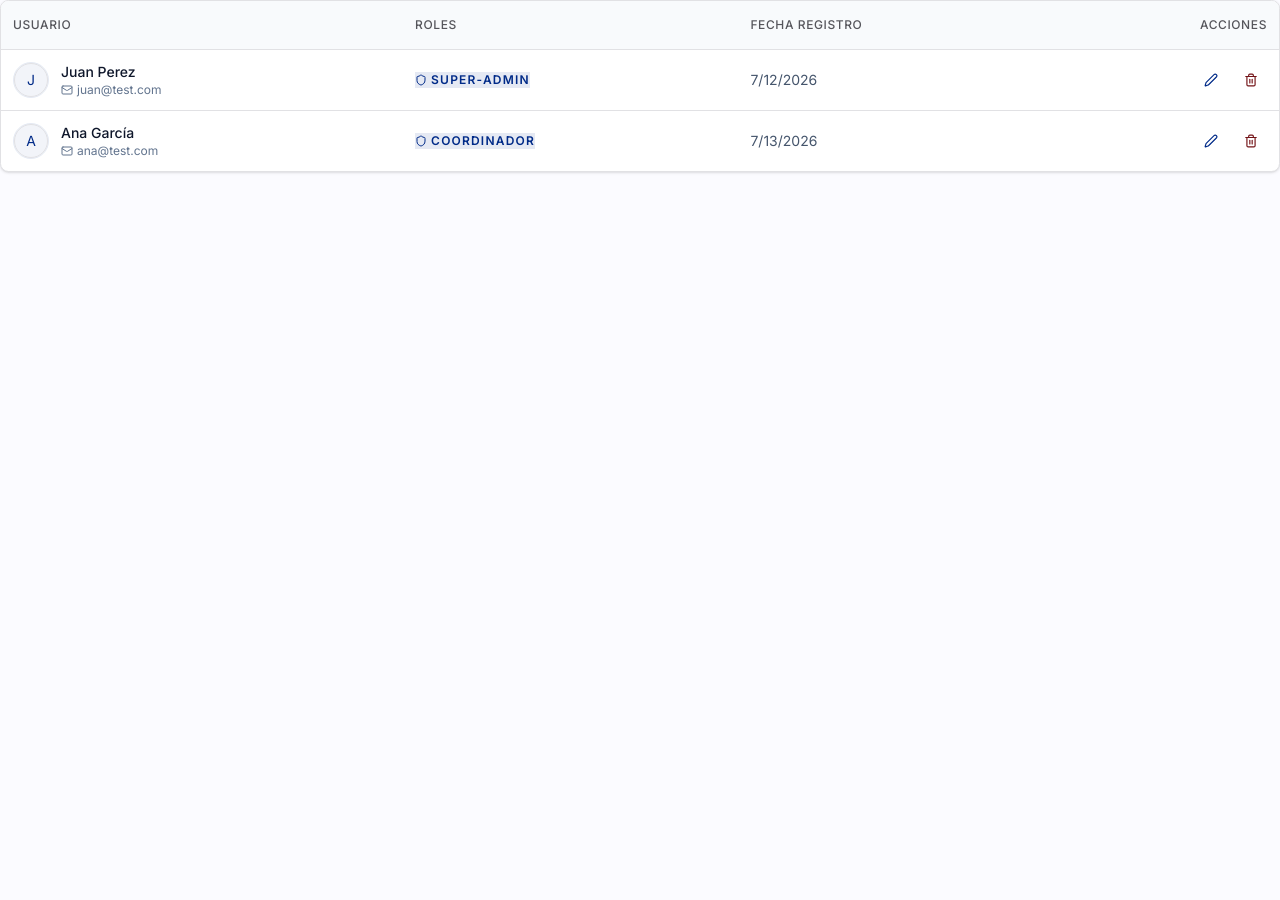
Test: UsersTable › el modal de eliminación se cierra al hacer click en Cancelar
Expected: the text "Juan Perez" is shown, [61, 62, 136, 80]
What coordinates should you click on to do the following:
click the 2nd button
I would click on:
 (1251, 80)
Its box is [1235, 64, 1267, 96].
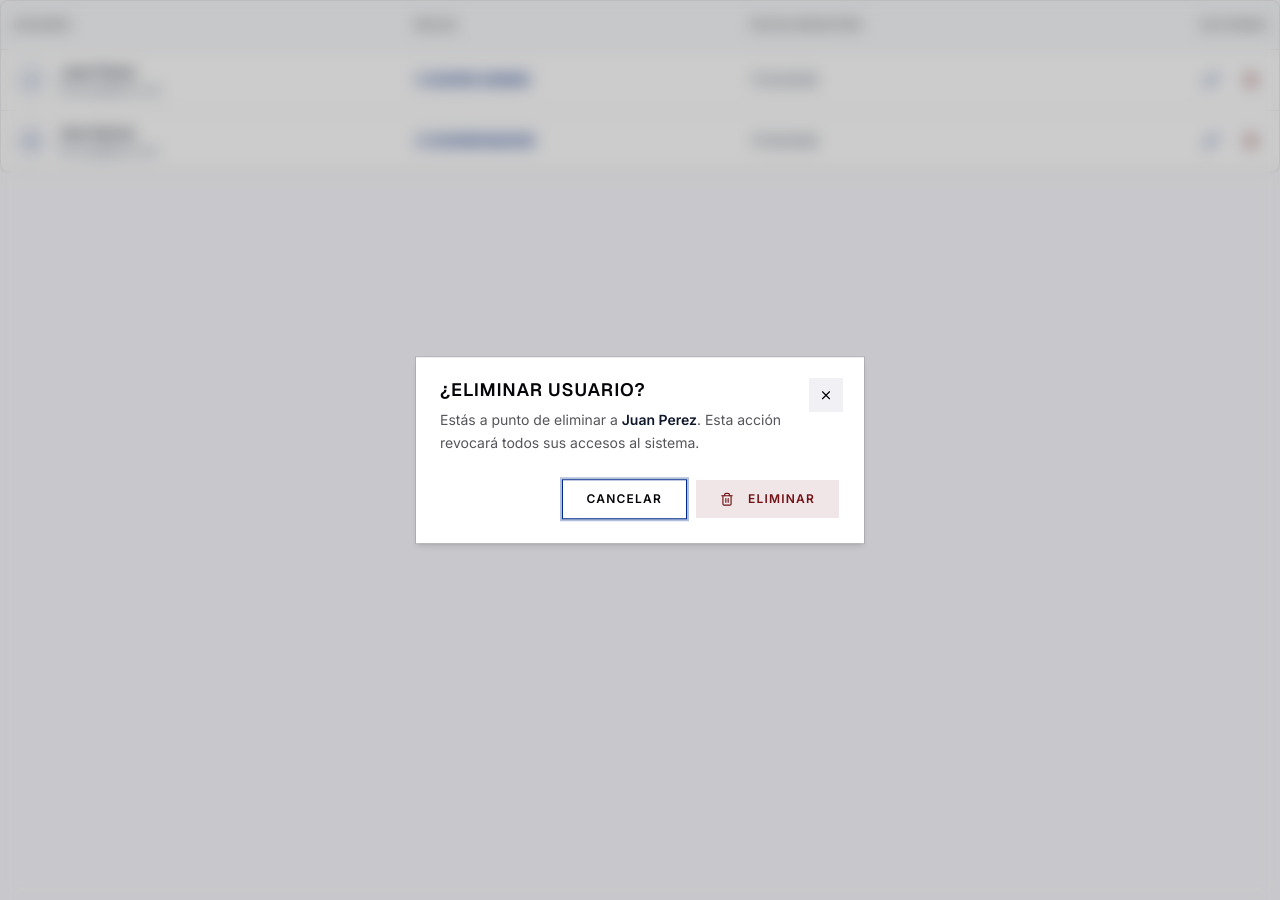
Expected: the heading "¿Eliminar usuario?" is shown, [440, 378, 646, 401]
What coordinates should you click on to do the following:
click the button "Cancelar"
I would click on:
 (624, 499)
Its box is [562, 479, 687, 519].
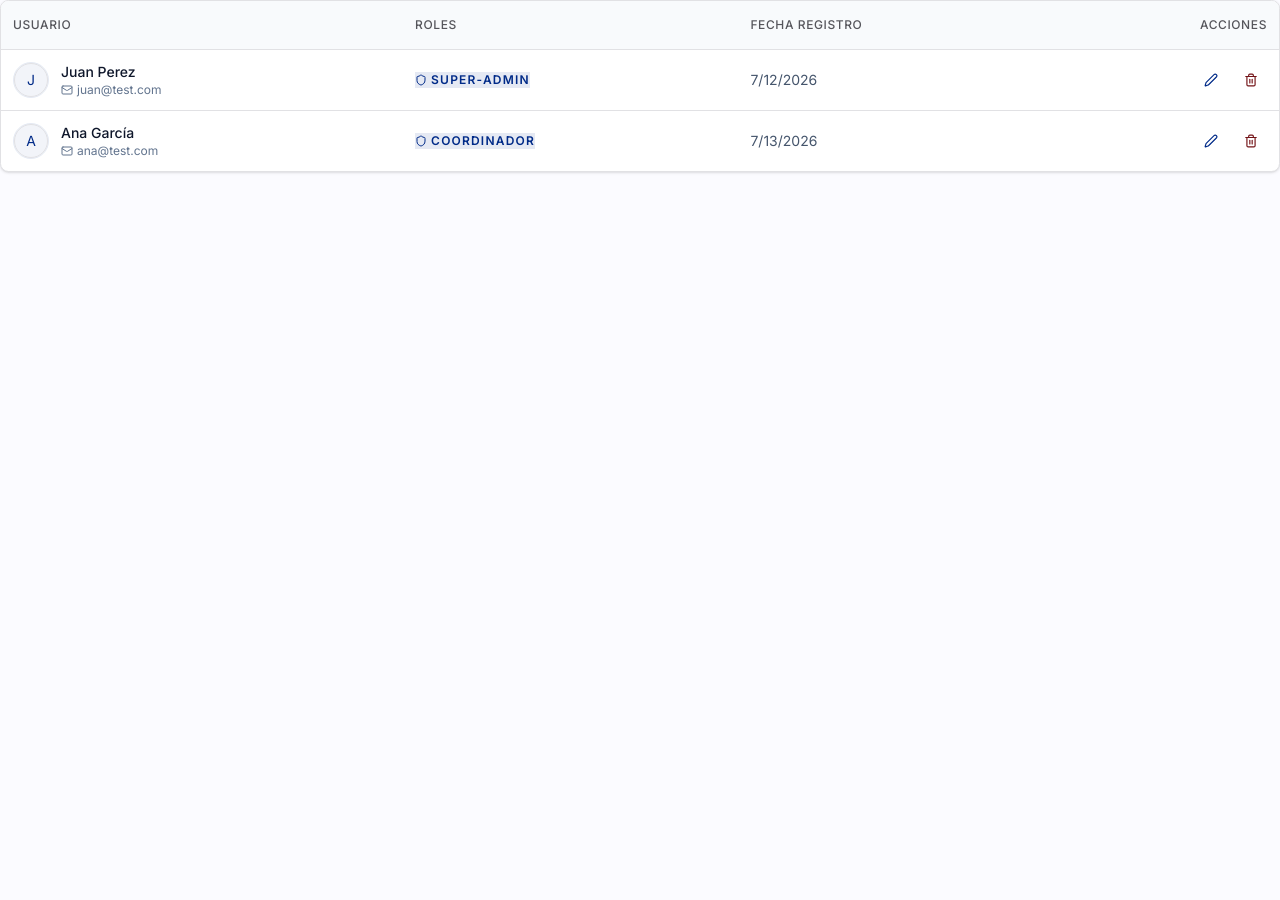
Expected: the heading "¿Eliminar usuario?" is gone
